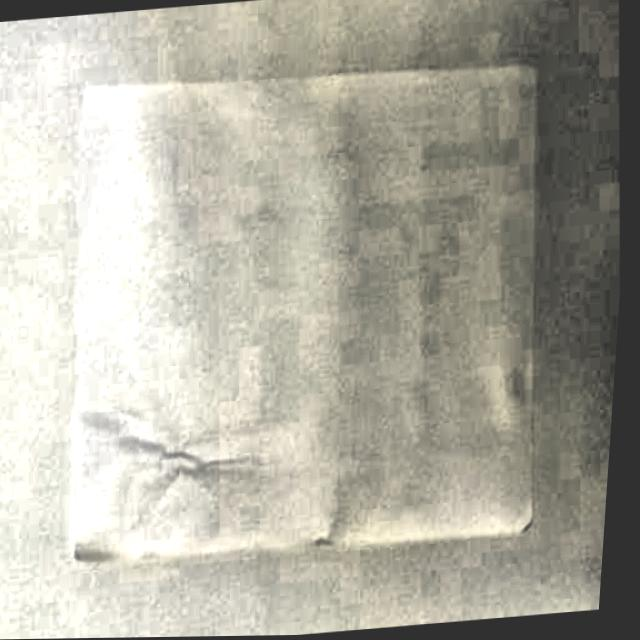Paper: (37, 27, 584, 589)
